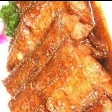hongshaodaiyu: (3, 0, 112, 112)
